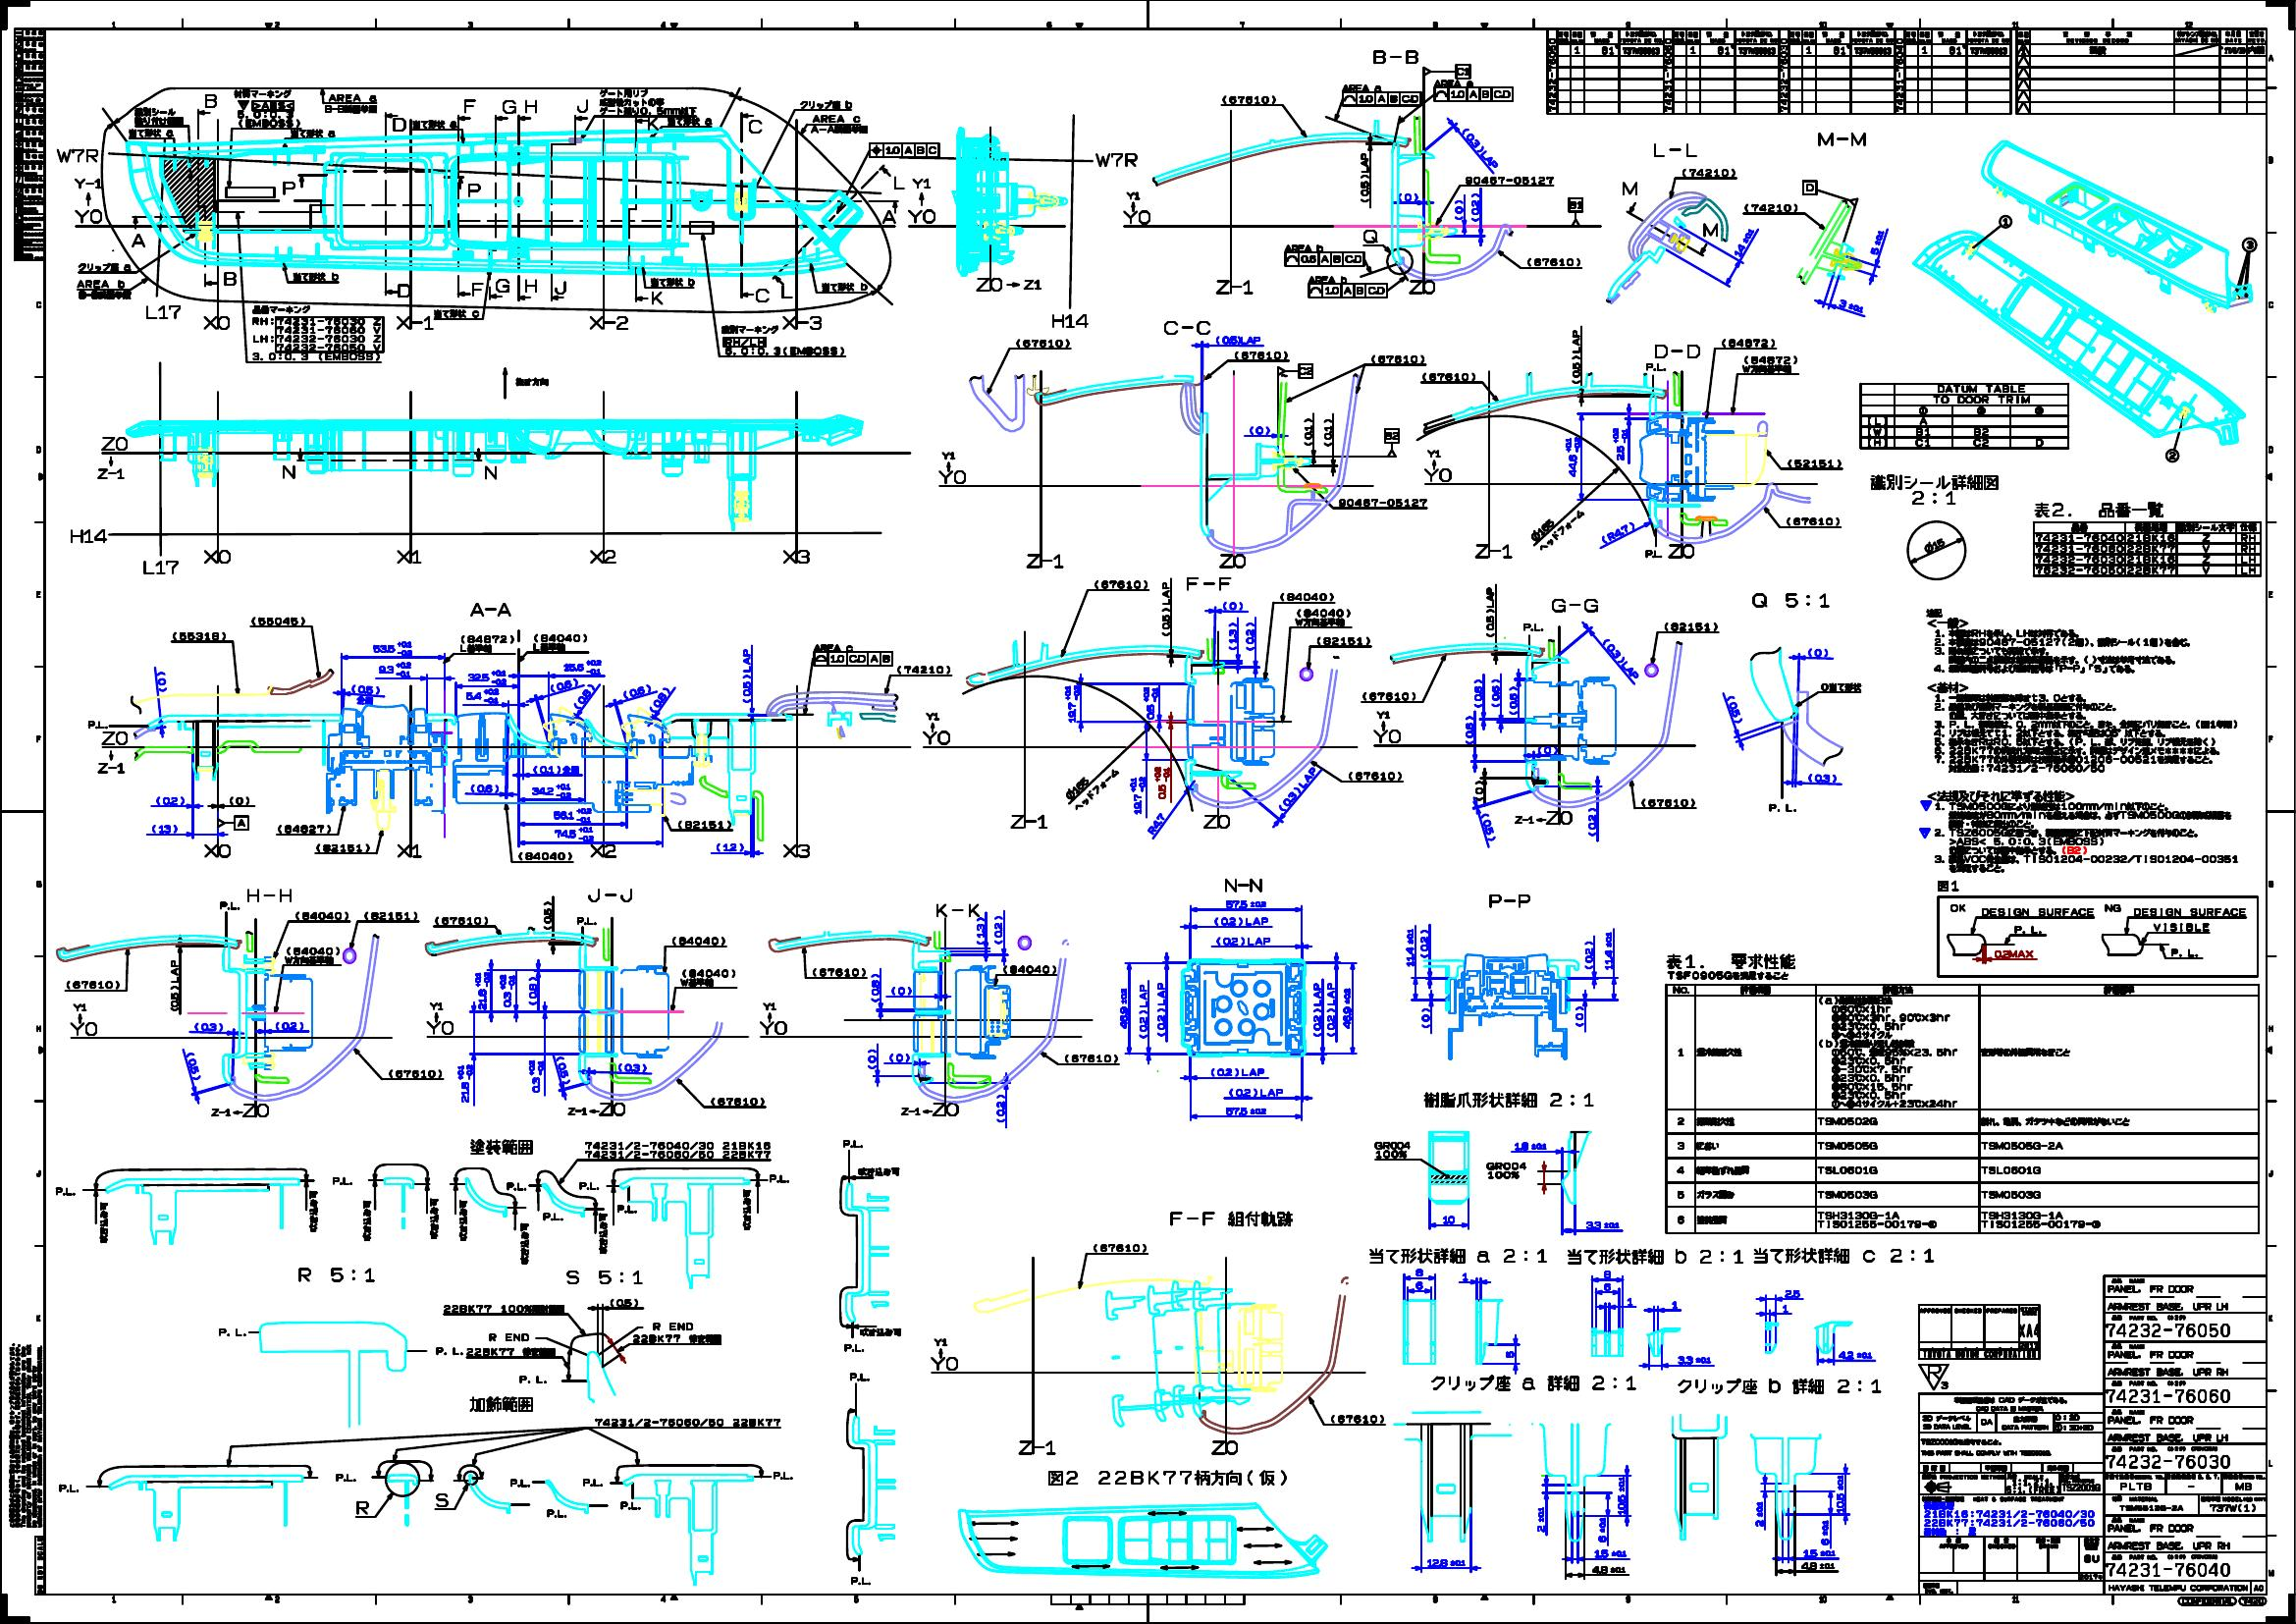anntotation_text: (1918, 606, 2240, 874), (249, 304, 385, 360), (7, 1343, 42, 1527), (1869, 473, 1999, 506), (720, 323, 845, 355), (1047, 1469, 1288, 1485), (1665, 953, 1797, 981), (1676, 1376, 1881, 1394), (1906, 520, 1966, 580), (583, 1141, 771, 1158), (1430, 1376, 1635, 1392), (1751, 1246, 1934, 1264), (1367, 1246, 1548, 1264), (1565, 1248, 1743, 1265), (1423, 1091, 1593, 1107), (234, 88, 300, 127), (599, 90, 697, 114), (2032, 501, 2164, 518), (1168, 1211, 1293, 1227), (813, 642, 892, 666), (1307, 274, 1388, 297), (1433, 79, 1513, 102), (1342, 83, 1421, 105), (1284, 244, 1363, 265), (1751, 591, 1830, 608), (97, 436, 128, 480), (906, 178, 936, 223), (594, 1418, 782, 1425), (74, 178, 102, 223), (566, 1269, 643, 1285), (297, 1267, 374, 1283), (810, 114, 870, 134), (469, 1137, 532, 1155), (458, 633, 515, 652), (680, 967, 736, 986), (76, 279, 132, 299), (443, 1304, 564, 1313), (323, 93, 378, 112), (467, 1396, 532, 1411), (2133, 907, 2247, 916), (757, 1002, 787, 1035), (1295, 608, 1351, 626), (922, 710, 950, 745), (283, 946, 339, 963), (1982, 907, 2094, 916), (1741, 355, 1797, 373), (870, 142, 938, 156), (532, 633, 587, 650), (1372, 710, 1400, 743), (1917, 1362, 1950, 1390), (929, 1338, 957, 1371), (1123, 190, 1151, 223), (975, 278, 1042, 292), (938, 450, 966, 483), (1423, 448, 1451, 482), (211, 1102, 269, 1118), (425, 1002, 453, 1033), (70, 1002, 97, 1035), (566, 1102, 625, 1116), (899, 1102, 959, 1116), (1514, 810, 1572, 824), (632, 1334, 722, 1343), (466, 1346, 555, 1355), (134, 107, 183, 123), (1339, 497, 1426, 506), (1551, 598, 1599, 613), (1484, 1162, 1527, 1179), (469, 601, 513, 617), (1816, 132, 1866, 146), (395, 315, 434, 332), (246, 888, 293, 902), (1488, 893, 1530, 909), (1163, 320, 1210, 334), (1374, 1141, 1411, 1158), (1186, 576, 1231, 591), (587, 888, 632, 902), (935, 903, 980, 917), (1372, 49, 1418, 63), (1655, 344, 1700, 359), (782, 315, 822, 330), (588, 315, 629, 330), (1465, 176, 1555, 183), (1653, 142, 1697, 156), (1094, 153, 1138, 167), (1017, 1439, 1056, 1455), (1216, 279, 1254, 295), (1051, 313, 1089, 329), (1474, 543, 1513, 559), (249, 615, 306, 626), (56, 148, 98, 162), (142, 559, 179, 575), (671, 935, 726, 946), (1015, 337, 1070, 348), (711, 1095, 764, 1106), (1065, 1053, 1117, 1063), (146, 304, 181, 320), (1008, 814, 1047, 828), (1224, 877, 1263, 891), (518, 1223, 531, 1265), (1026, 554, 1063, 568), (2152, 923, 2210, 932), (432, 308, 480, 318), (516, 851, 573, 859), (314, 842, 371, 851), (70, 529, 105, 543), (650, 276, 696, 286), (1664, 622, 1718, 631), (1641, 798, 1695, 807), (1347, 772, 1402, 780), (1361, 691, 1416, 700), (1093, 580, 1147, 589), (896, 664, 950, 673), (278, 824, 332, 833), (172, 631, 227, 640), (65, 981, 119, 990), (434, 916, 488, 924), (812, 967, 866, 975), (1093, 1243, 1147, 1251), (1330, 1413, 1384, 1422), (1527, 257, 1581, 265), (1221, 95, 1275, 104), (77, 262, 132, 271), (1233, 350, 1288, 359), (1370, 355, 1425, 364), (1421, 373, 1476, 381), (1785, 517, 1839, 526), (1281, 592, 1333, 601), (678, 819, 731, 828), (364, 910, 416, 919), (295, 910, 348, 919), (388, 1069, 441, 1077), (1003, 965, 1056, 974), (741, 1186, 752, 1230), (1722, 337, 1774, 346), (1788, 459, 1841, 468), (307, 1190, 318, 1232), (202, 315, 230, 330), (588, 548, 617, 564), (782, 548, 810, 564), (597, 1213, 608, 1253), (666, 116, 713, 125), (820, 281, 868, 290), (204, 548, 230, 564), (395, 548, 422, 564), (1667, 543, 1693, 559), (290, 128, 336, 137), (1316, 636, 1372, 643), (782, 844, 810, 858), (1210, 1439, 1238, 1454), (1407, 279, 1435, 294), (1217, 554, 1245, 568), (413, 120, 457, 128), (128, 128, 172, 137), (1743, 204, 1797, 211), (1681, 169, 1736, 176), (1203, 814, 1230, 828), (590, 844, 617, 858), (102, 731, 128, 745), (204, 844, 230, 858), (98, 1200, 107, 1243), (429, 1197, 437, 1239), (458, 1199, 467, 1241), (857, 1167, 899, 1176), (859, 1327, 901, 1336), (652, 1322, 694, 1330), (799, 100, 852, 107), (1820, 682, 1860, 691), (362, 1200, 371, 1241), (488, 1332, 529, 1341), (397, 844, 422, 858), (292, 272, 339, 279), (95, 763, 125, 773), (515, 378, 548, 387), (1936, 881, 1959, 893), (2013, 924, 2043, 933), (216, 1327, 246, 1336), (1767, 803, 1797, 812), (1363, 228, 1379, 244), (130, 232, 146, 248), (2242, 237, 2257, 253), (2170, 947, 2198, 956), (518, 1374, 546, 1383), (541, 1211, 564, 1222), (506, 1181, 527, 1192), (841, 1137, 863, 1148), (848, 1371, 870, 1381), (1702, 223, 1718, 237), (1621, 181, 1637, 195), (502, 98, 516, 114), (223, 271, 237, 286), (483, 464, 497, 480), (281, 464, 295, 480), (1997, 214, 2013, 228), (2164, 448, 2180, 462), (88, 719, 107, 729), (546, 1508, 566, 1519), (574, 916, 597, 924), (610, 1299, 638, 1306), (436, 1346, 464, 1353), (1569, 199, 1583, 213), (467, 183, 481, 197), (882, 209, 896, 223), (892, 176, 906, 190), (523, 98, 538, 112), (392, 116, 406, 130), (281, 181, 295, 195), (495, 278, 509, 292), (523, 278, 538, 292), (755, 288, 769, 302), (1298, 364, 1312, 378), (1384, 429, 1398, 443), (471, 281, 483, 297), (553, 279, 566, 295), (54, 1186, 76, 1195), (332, 1176, 353, 1185), (578, 1181, 599, 1190), (617, 1204, 638, 1213), (843, 1343, 864, 1352), (58, 1483, 79, 1492), (336, 1473, 357, 1482), (509, 1478, 531, 1487), (620, 1501, 641, 1510), (581, 1478, 603, 1487), (850, 1577, 871, 1585), (235, 816, 248, 830), (355, 1501, 369, 1513), (436, 1492, 448, 1506), (1802, 181, 1816, 193), (1456, 65, 1470, 77), (646, 116, 659, 130), (748, 120, 762, 132), (576, 98, 588, 112), (464, 98, 476, 112), (204, 93, 216, 107), (397, 283, 409, 297), (650, 290, 662, 304), (780, 285, 792, 299), (1523, 622, 1542, 631), (2103, 903, 2122, 912), (769, 1174, 789, 1183), (773, 1471, 792, 1480), (1646, 362, 1665, 371), (1950, 902, 1966, 912), (1644, 548, 1662, 557)
dimension_text: (1180, 956, 1307, 1058), (1530, 508, 1585, 550), (1065, 768, 1119, 810), (1279, 766, 1316, 810), (1602, 638, 1639, 678), (1463, 128, 1498, 169), (1600, 522, 1634, 543), (371, 640, 413, 656), (1130, 775, 1145, 816), (531, 782, 571, 798), (467, 668, 506, 684), (457, 1063, 473, 1102), (648, 687, 671, 714), (1734, 228, 1755, 257), (1565, 436, 1579, 478), (351, 684, 379, 705), (553, 807, 590, 823), (562, 659, 603, 673), (553, 826, 594, 840), (573, 684, 596, 708), (1065, 684, 1079, 722), (1142, 685, 1158, 719), (1154, 766, 1170, 800), (466, 687, 499, 703), (378, 661, 411, 677), (527, 1060, 543, 1093), (499, 974, 515, 1007), (474, 972, 488, 1009), (1161, 582, 1170, 636), (741, 649, 750, 703), (1216, 935, 1270, 944), (1214, 916, 1268, 924), (1210, 1067, 1265, 1076), (1312, 982, 1321, 1037), (622, 684, 652, 700), (1216, 334, 1260, 344), (1138, 984, 1147, 1037), (1156, 982, 1165, 1035), (1484, 587, 1493, 638), (1613, 427, 1627, 459), (550, 677, 578, 692), (1360, 153, 1368, 202), (186, 1051, 200, 1081), (1727, 696, 1743, 722), (532, 765, 580, 773), (555, 1056, 571, 1083), (1572, 329, 1579, 383), (1228, 1088, 1282, 1095), (1326, 982, 1333, 1037), (1481, 814, 1495, 840), (1147, 812, 1165, 833), (1342, 986, 1351, 1028), (170, 960, 177, 1011), (1839, 299, 1864, 313), (1869, 230, 1883, 255), (1405, 928, 1414, 967), (1616, 1476, 1625, 1515), (1585, 1220, 1621, 1229), (1838, 1350, 1873, 1359), (993, 916, 1003, 944), (1224, 900, 1267, 907), (1224, 1107, 1267, 1114), (1514, 1141, 1548, 1149), (1676, 1355, 1709, 1364), (1592, 1564, 1625, 1573), (1593, 1548, 1627, 1557), (1801, 1561, 1834, 1570), (1119, 988, 1126, 1028), (1426, 1559, 1465, 1566), (1470, 192, 1479, 221), (1303, 417, 1312, 446), (715, 842, 745, 851), (155, 796, 184, 805), (193, 1023, 223, 1032), (617, 1062, 646, 1070), (996, 1093, 1005, 1123), (1419, 928, 1428, 958), (1606, 932, 1613, 968), (1836, 1475, 1843, 1512), (1323, 418, 1332, 446), (1808, 773, 1836, 782), (1588, 807, 1597, 835), (1507, 685, 1516, 714), (1474, 678, 1483, 707), (1465, 715, 1474, 743), (1245, 622, 1254, 650), (1228, 622, 1237, 650), (471, 784, 499, 793), (975, 916, 984, 944), (870, 974, 878, 1002), (1583, 940, 1592, 968), (1802, 1548, 1836, 1555), (151, 824, 177, 833), (1535, 1506, 1544, 1533), (1597, 1517, 1606, 1543), (1755, 1501, 1764, 1527), (1820, 1519, 1829, 1545), (156, 671, 167, 692), (274, 1021, 304, 1028), (529, 975, 536, 1005), (1491, 678, 1498, 707), (543, 900, 550, 928), (1455, 199, 1463, 220), (1249, 425, 1270, 434), (891, 986, 912, 995), (889, 1053, 910, 1062), (1421, 1007, 1430, 1028), (1574, 1005, 1583, 1026), (1398, 192, 1418, 200), (1808, 647, 1827, 656), (1474, 780, 1483, 800), (1223, 601, 1242, 610), (228, 796, 248, 805), (866, 1049, 875, 1069), (1442, 1214, 1455, 1225), (1783, 1290, 1801, 1297), (1535, 747, 1556, 752), (1414, 1280, 1423, 1290), (1602, 1269, 1611, 1278), (1505, 1350, 1514, 1359), (1414, 1267, 1423, 1276), (1781, 1304, 1788, 1313), (1602, 1283, 1611, 1290), (1462, 1271, 1467, 1280), (1672, 1301, 1678, 1308), (1627, 1297, 1632, 1304)
object: (134, 668, 898, 842), (123, 127, 864, 279), (123, 413, 864, 531), (107, 1471, 754, 1587), (105, 1176, 754, 1290), (1911, 228, 2247, 445), (966, 373, 1360, 554), (1423, 371, 1811, 545), (964, 636, 1339, 808), (1151, 114, 1513, 281), (973, 1276, 1349, 1434), (54, 930, 379, 1102), (766, 928, 1070, 1104), (423, 926, 722, 1100), (1390, 638, 1683, 808), (1980, 139, 2254, 313), (957, 1499, 1328, 1578), (950, 127, 1068, 278), (1421, 953, 1579, 1062), (256, 1320, 408, 1429), (1391, 1410, 1513, 1543), (1606, 190, 1729, 306), (1750, 647, 1843, 766), (1539, 1422, 1613, 1541), (1750, 1432, 1822, 1541), (1669, 1411, 1727, 1541), (850, 1415, 896, 1555), (845, 1183, 889, 1322), (1795, 199, 1862, 286), (1426, 1128, 1470, 1204), (1402, 1297, 1437, 1364), (1560, 1130, 1592, 1204), (1474, 1299, 1504, 1366), (587, 1350, 617, 1403), (1813, 1320, 1853, 1353), (1646, 1327, 1681, 1357), (1590, 1327, 1623, 1357), (1764, 1320, 1778, 1353)
title_block: (1665, 984, 2259, 1234), (1918, 1276, 2266, 1594), (2017, 28, 2266, 114), (1860, 383, 2068, 448), (2034, 522, 2261, 575), (1894, 28, 2010, 114), (1664, 28, 1780, 114), (1548, 28, 1664, 114), (1780, 28, 1894, 114), (14, 28, 44, 260), (1918, 1304, 2040, 1359)
